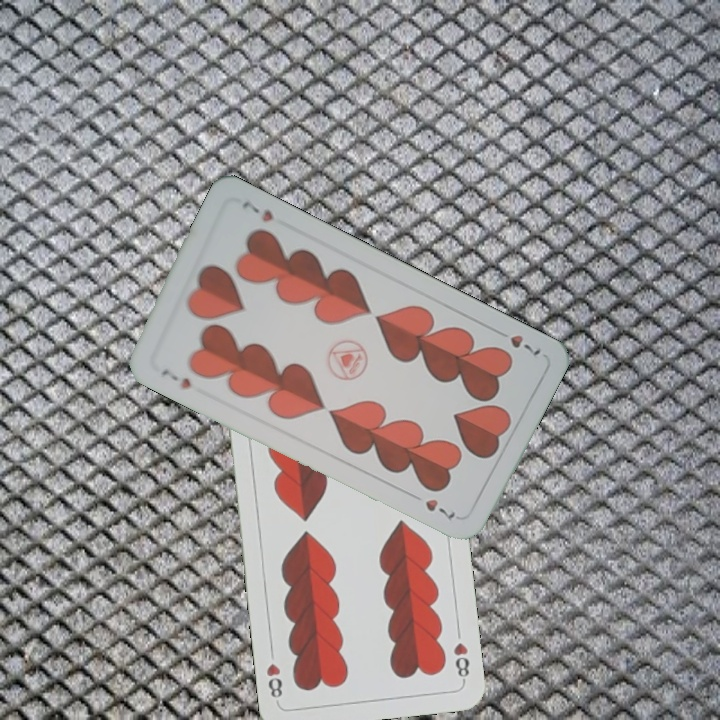H7: (491, 325, 544, 360), (157, 365, 194, 393)
H8: (449, 638, 472, 685)
